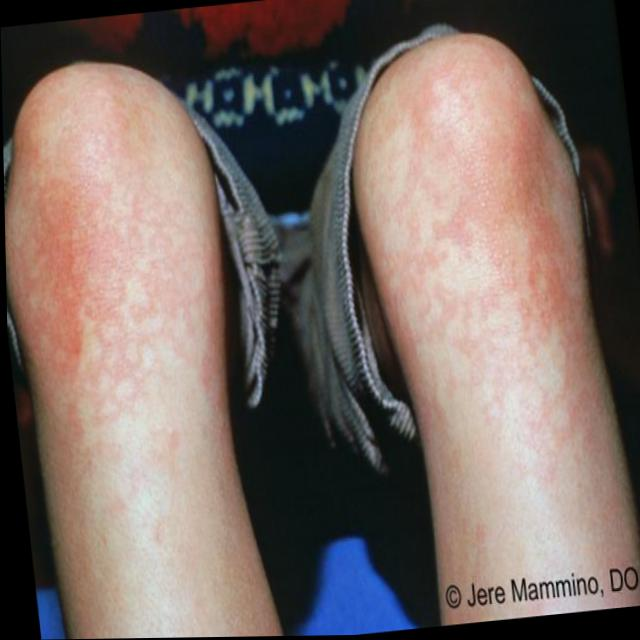Erythema infectiosum: (19, 133, 224, 566), (395, 93, 590, 450)
